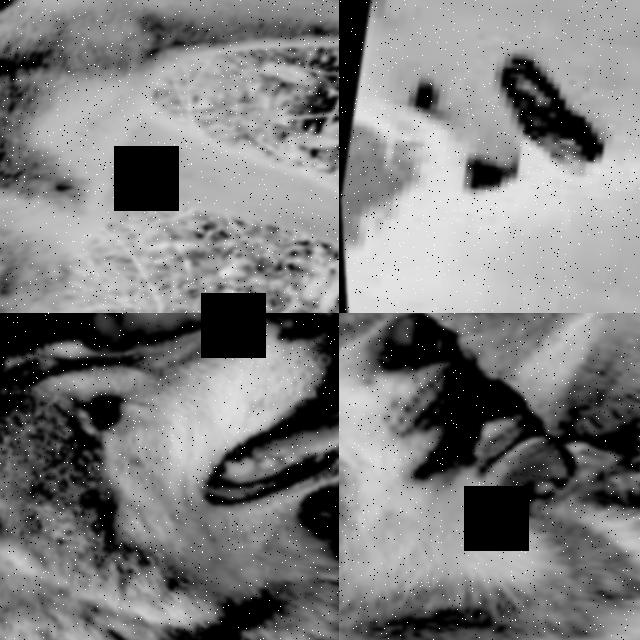dog: (339, 0, 640, 313)
wolf: (0, 313, 339, 640), (0, 0, 339, 313), (339, 313, 640, 640), (339, 313, 640, 510)
